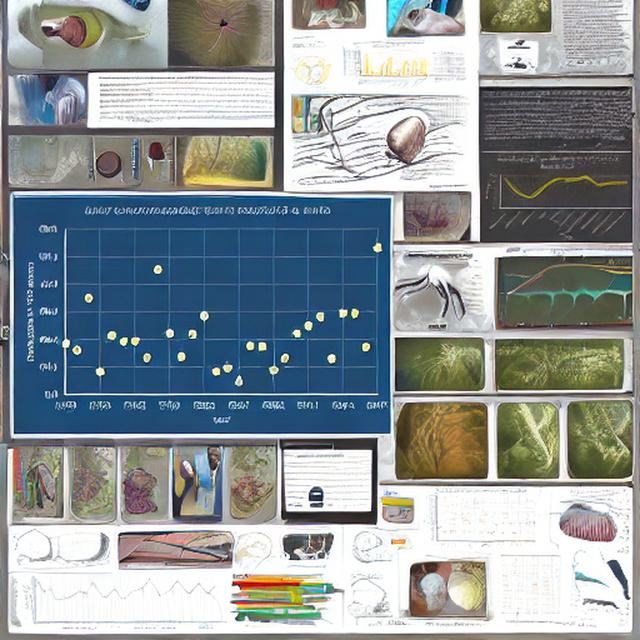Graph: (13, 198, 391, 434), (481, 153, 633, 243), (424, 488, 539, 553), (24, 571, 127, 633), (346, 40, 432, 91)
